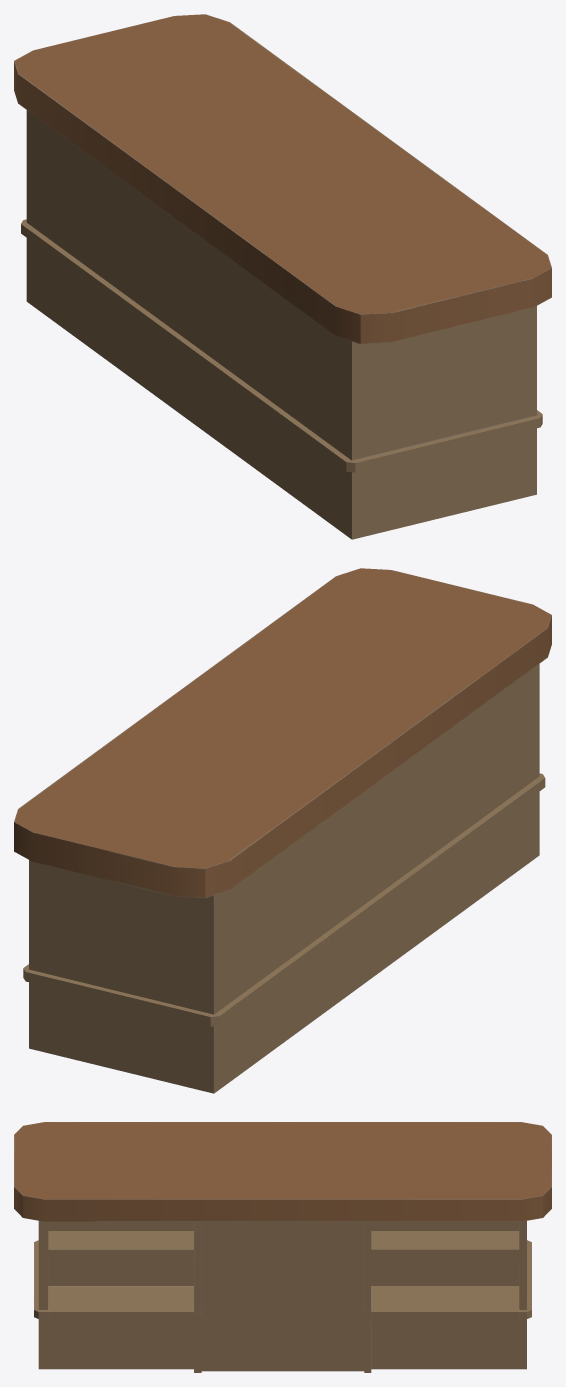
File: desk.fbx
3 views of the same model, one above another, from view 1: azimuth 30°, elevation 25°; view 2: azimuth 150°, elevation 25°; view 3: azimuth 270°, elevation 25° (orthographic). The views are drawn at different scales.
Parts seen in each view (by area): view 1: Cube.006; view 2: Cube.006; view 3: Cube.006.
Boxes of the visible parts, box(x1,y1,x2,y2) form: Cube.006: box(14, 14, 551, 539); Cube.006: box(14, 568, 551, 1093); Cube.006: box(14, 1122, 551, 1372).
Size of the model in its own units: 102 by 107 by 298.
